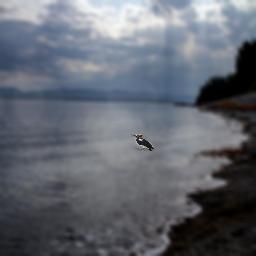Woodpecker: (131, 134, 154, 151)
